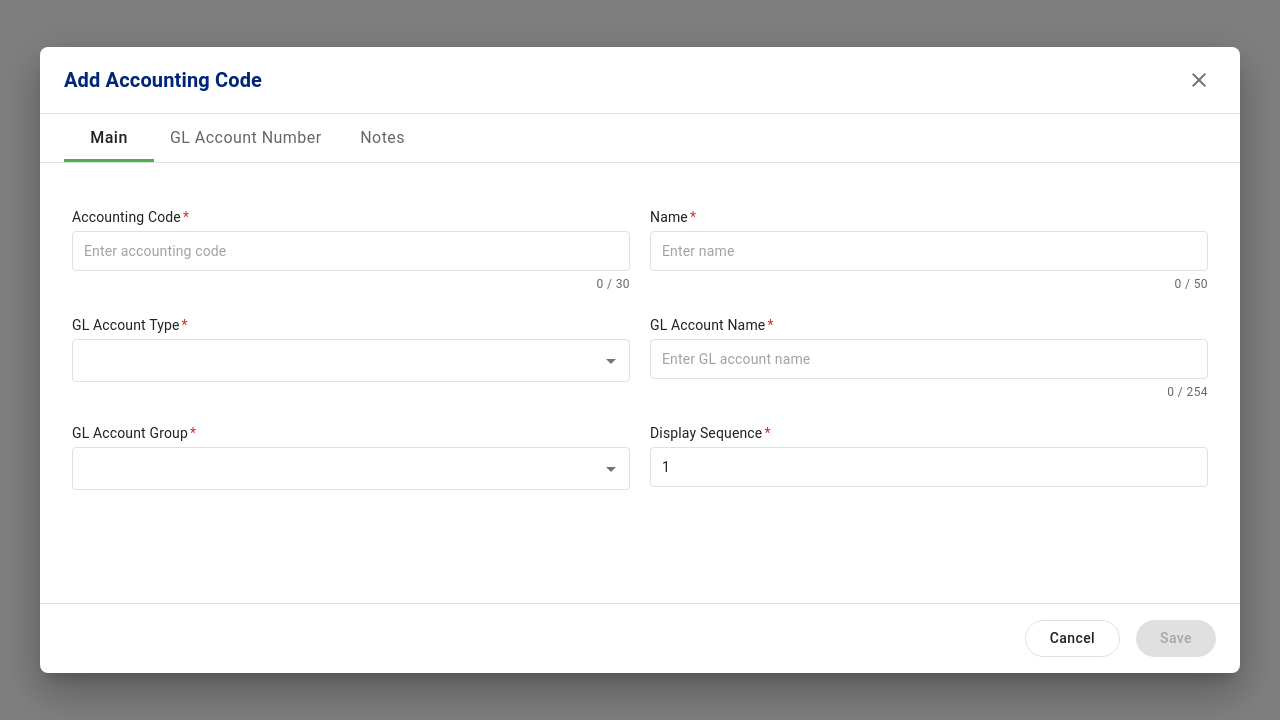
it: AddAccountingCodeDialog › switches between tabs when clicked
Note: Click on GL Account Number tab
Click the tab "GL Account Number": (246, 138) 154,114 -> 338,162
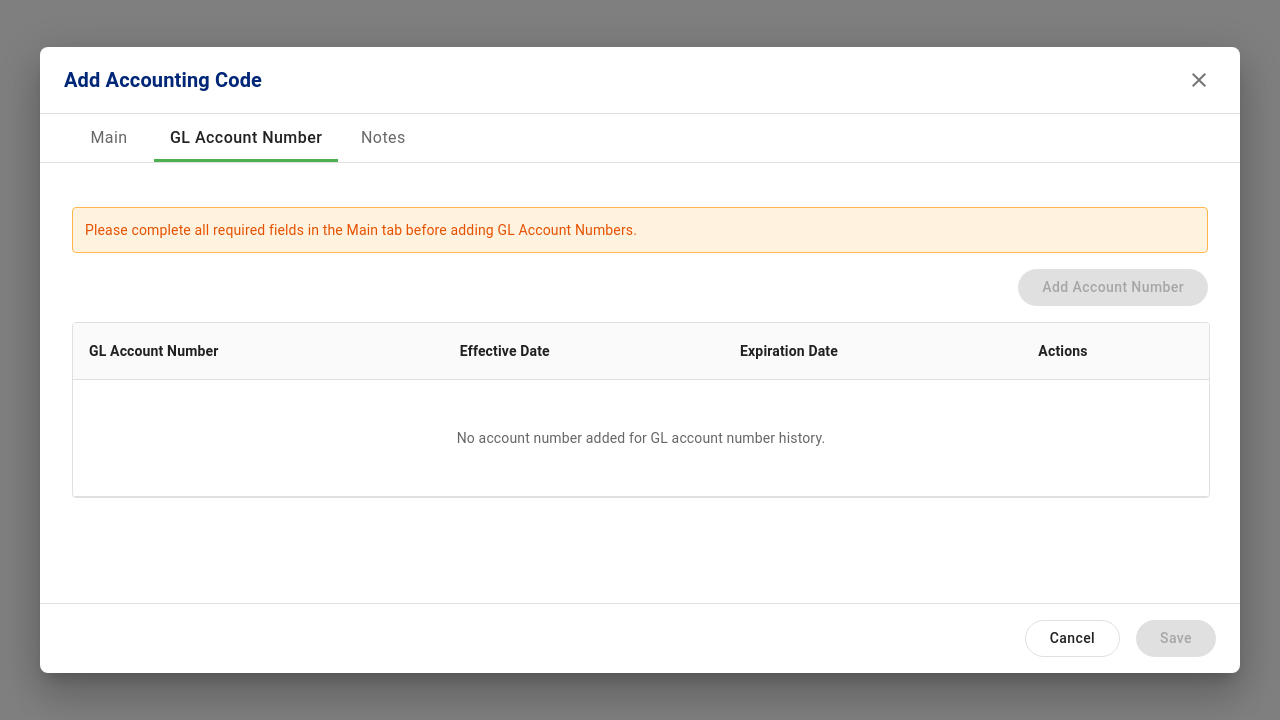
Expected: the button "Add Account Number" is shown, 1018,269 -> 1208,306
Note: Click on Notes tab
Click the tab "Notes": (383, 138) 338,114 -> 428,162
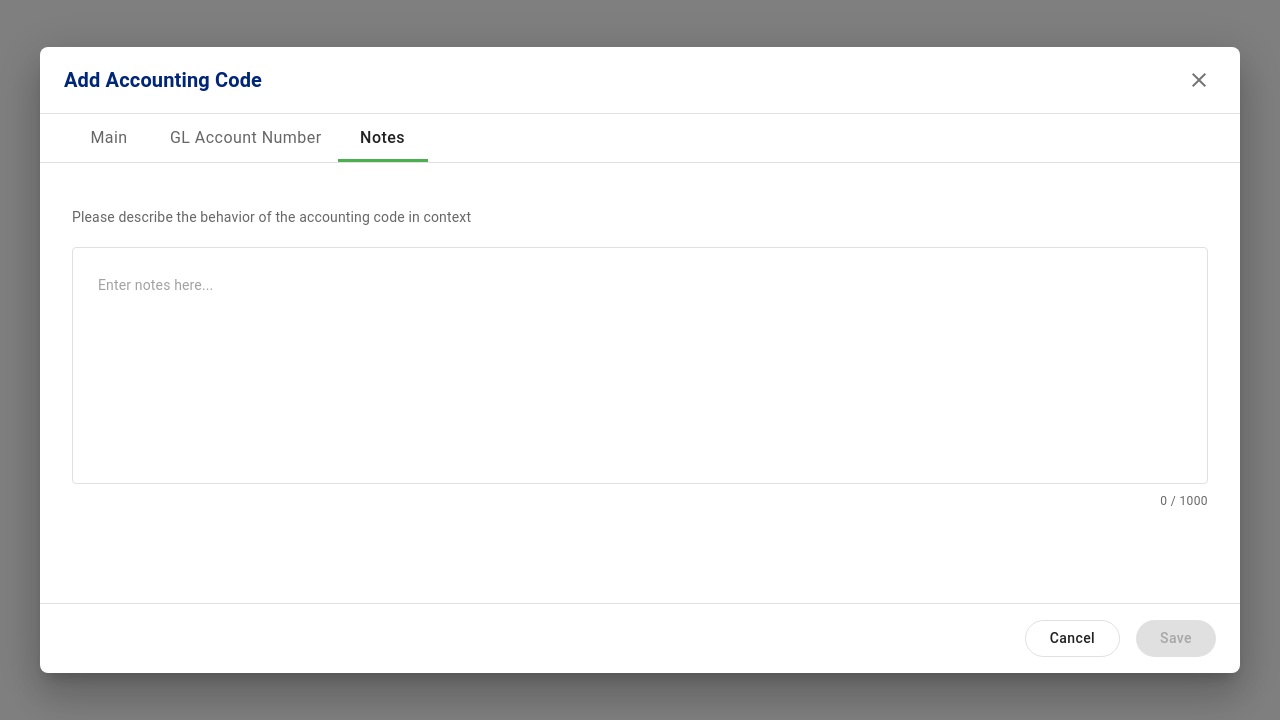
Expected: the text "Please describe the behavior of the accounting code in context" is shown, 72,209 -> 471,225
